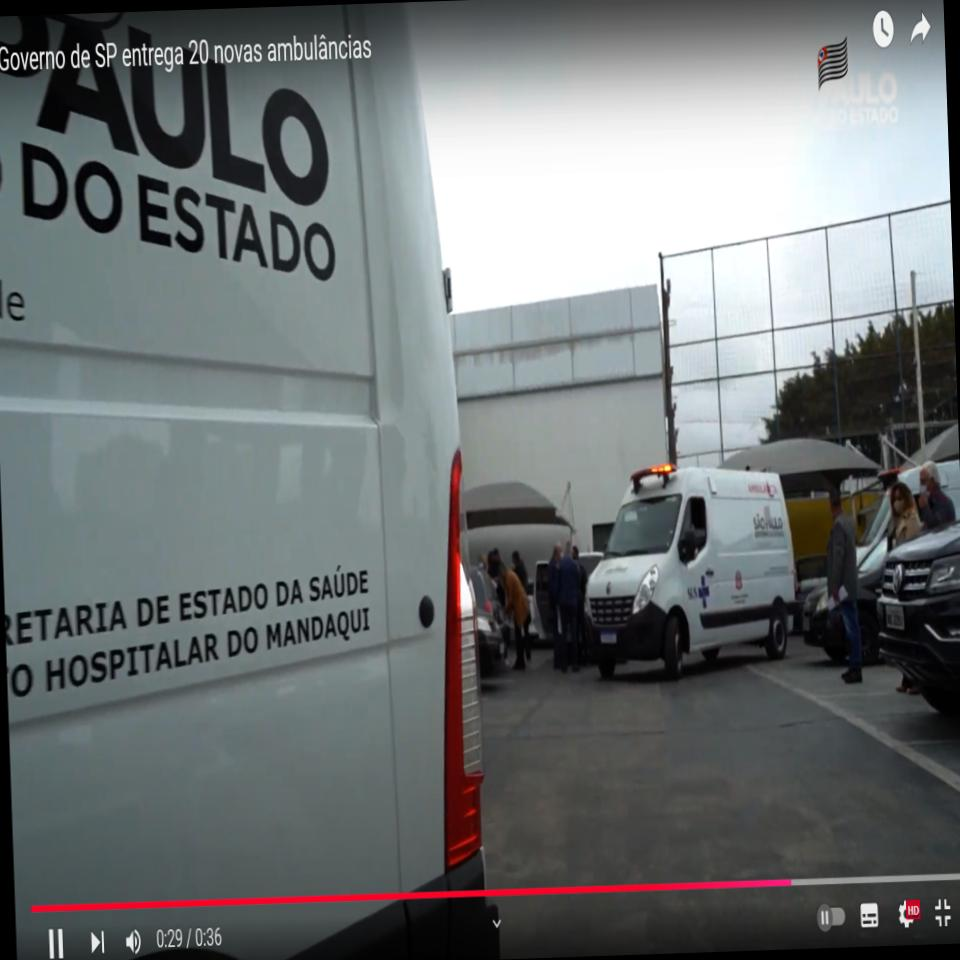bombeiro: (578, 459, 801, 684)
